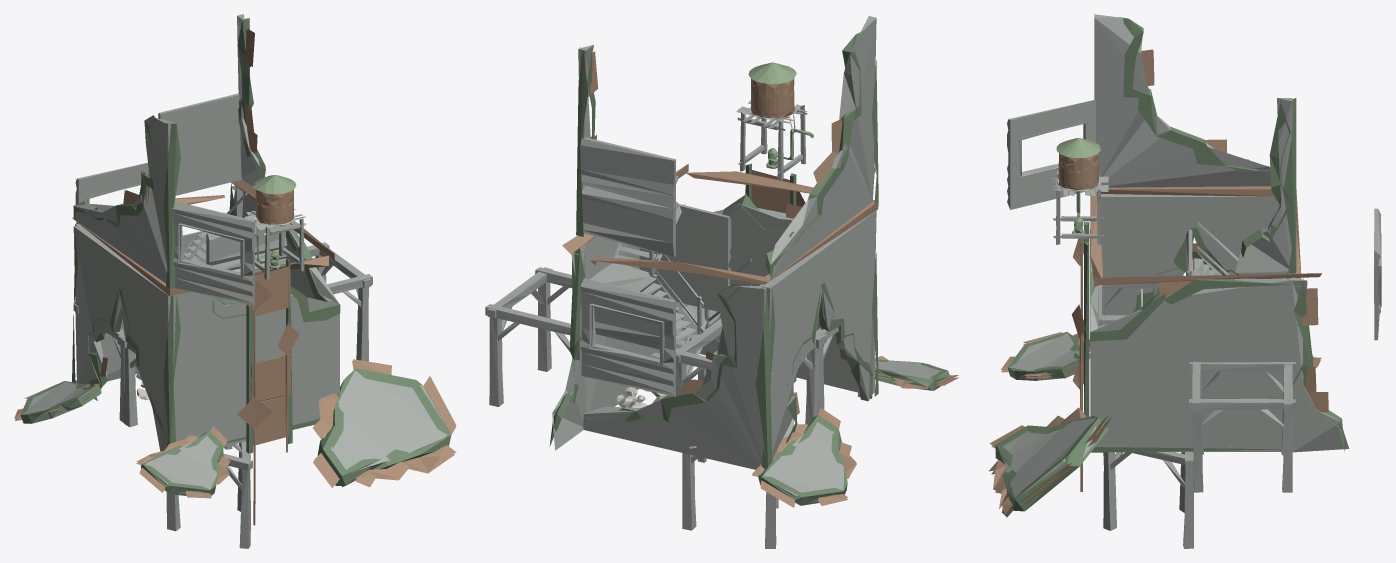
The model's file is water_well_e-map.glb.
The picture shows the model from 3 angles, left to right: view 1: azimuth 30°, elevation 25°; view 2: azimuth 150°, elevation 25°; view 3: azimuth 270°, elevation 25°; orthographic projection. The views are drawn at different scales.
Parts seen in each view (by area): view 1: water_well_LOD0, industrial_bld_ruin_a_LOD0; view 2: water_well_LOD0, industrial_bld_ruin_a_LOD0; view 3: water_well_LOD0, industrial_bld_ruin_a_LOD0.
Boxes of the visible parts, x1,y1,x2,y2 form: water_well_LOD0: (14, 14, 456, 548); industrial_bld_ruin_a_LOD0: (20, 18, 451, 496); water_well_LOD0: (485, 16, 958, 548); industrial_bld_ruin_a_LOD0: (549, 31, 949, 505); water_well_LOD0: (989, 14, 1381, 548); industrial_bld_ruin_a_LOD0: (995, 17, 1344, 511).
Size of the model in its own units: 11.78 by 15.75 by 11.93.
